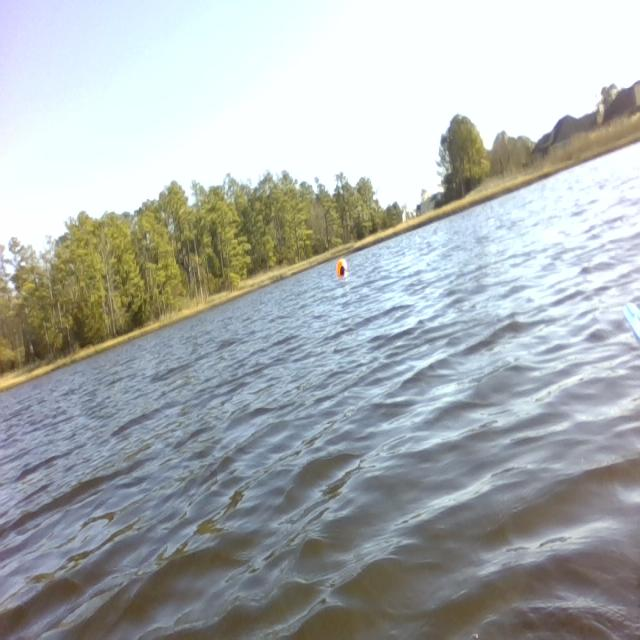Buoy: (331, 253, 352, 286)
